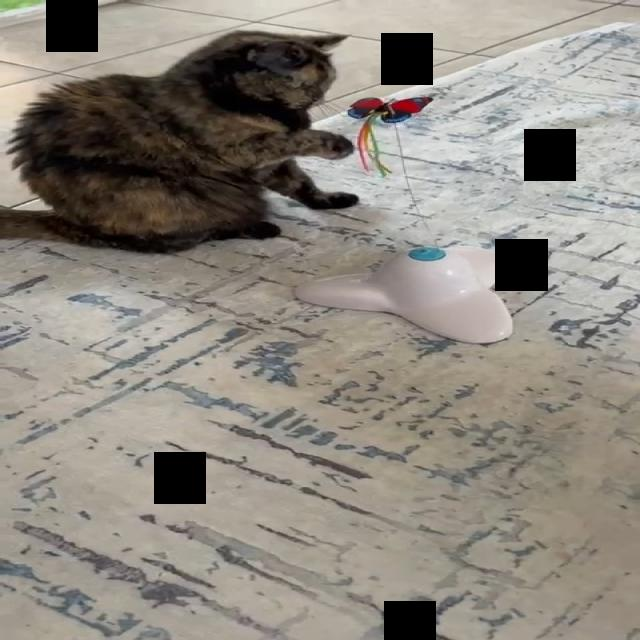authorized: (1, 29, 359, 254)
